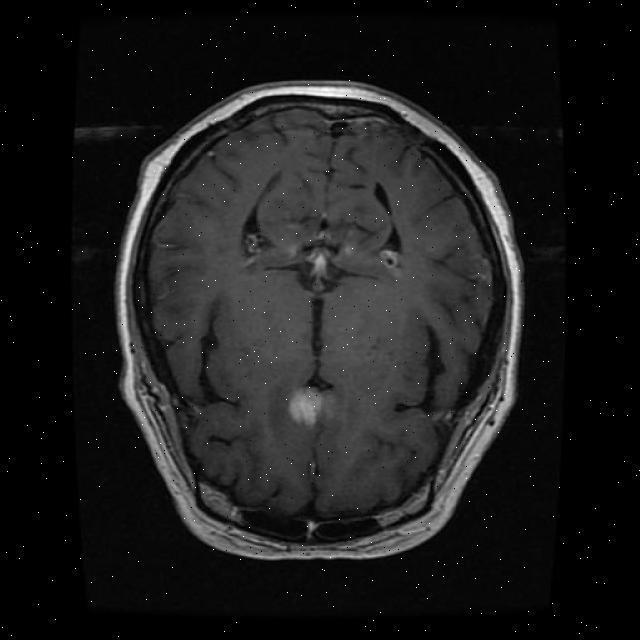Meningioma: (288, 387, 322, 426)
